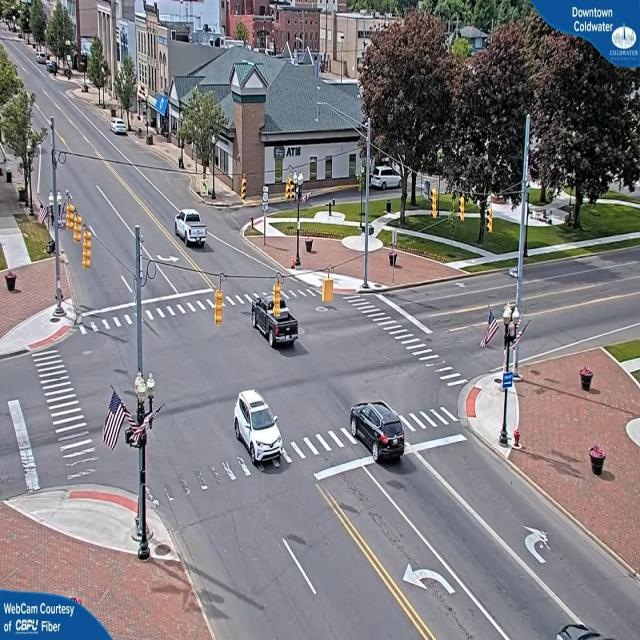car: (232, 392, 282, 468), (350, 402, 408, 466), (251, 289, 299, 349), (175, 210, 208, 247), (111, 120, 129, 136)
